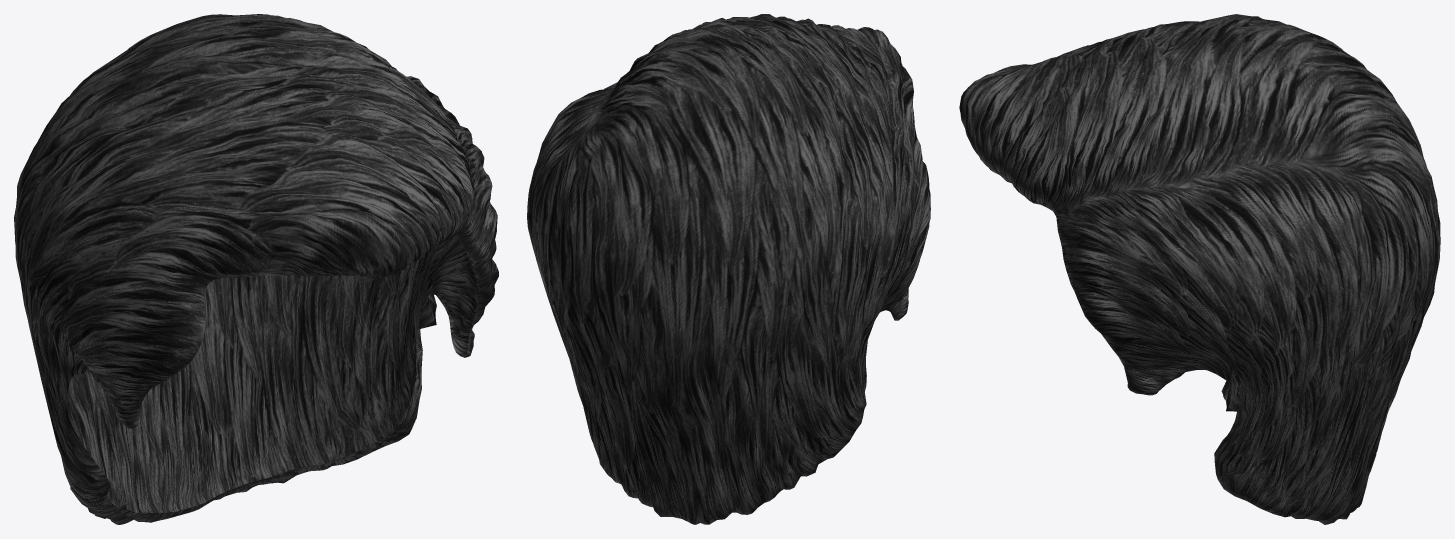
The model's file is classic_side_part.fbx.
The picture shows the model from 3 angles, left to right: view 1: azimuth 30°, elevation 25°; view 2: azimuth 150°, elevation 25°; view 3: azimuth 270°, elevation 25°; orthographic projection. The views are drawn at different scales.
Visible parts, largest first — view 1: mesh.002; view 2: mesh.002; view 3: mesh.002.
Boxes of the visible parts, <box> form: mesh.002: <box>14,14,498,524</box>; mesh.002: <box>527,14,930,524</box>; mesh.002: <box>959,14,1440,524</box>.
Bounding box in the file's own units: 19.5 × 23.54 × 21.7.
